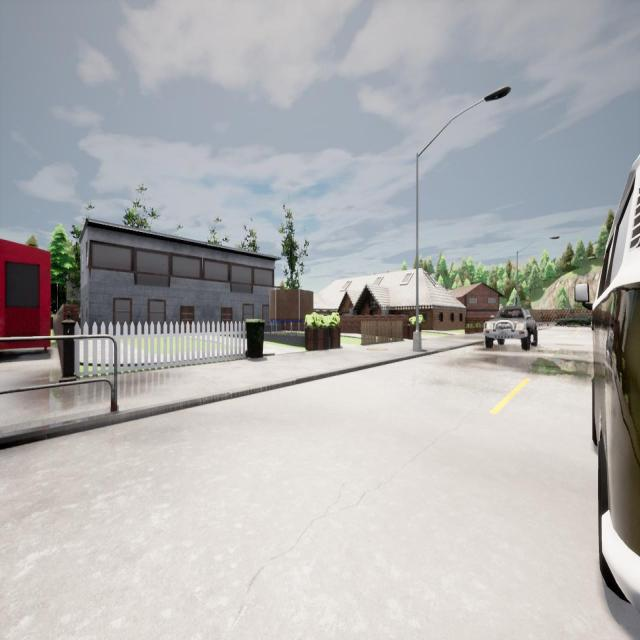Vehicle: (575, 155, 640, 604), (483, 307, 538, 350), (557, 314, 591, 327)
